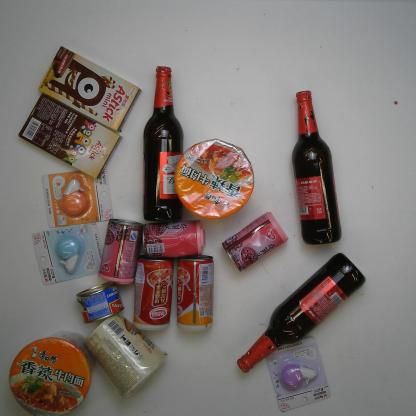Alcohol: (235, 253, 366, 375), (290, 89, 346, 247), (140, 66, 185, 224)
Canned Food: (221, 210, 288, 272), (175, 255, 217, 333), (132, 257, 172, 331), (98, 219, 140, 286), (142, 221, 206, 258), (73, 281, 126, 325)
Dessert: (37, 44, 143, 132), (18, 92, 121, 179)
Instant Noodles: (83, 314, 168, 400), (7, 335, 92, 416), (174, 139, 256, 221)
Stationery: (30, 222, 110, 288), (265, 337, 332, 413), (38, 166, 113, 226)
